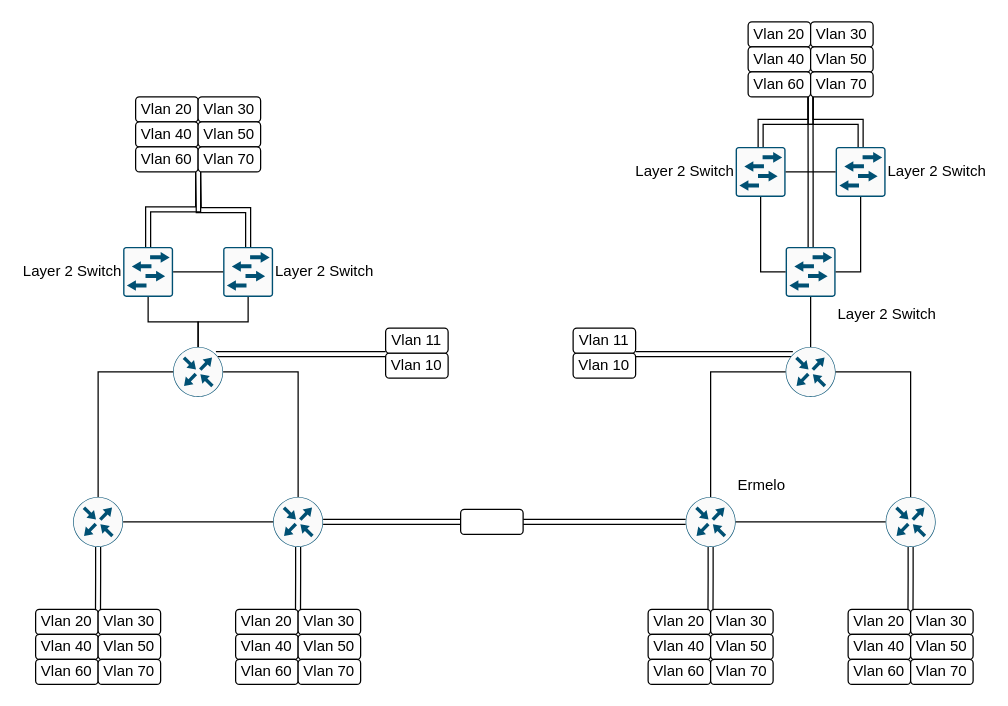
The diagram is 1008 pixels wide and 706 high, and some of its shapes have lost their labels. The centre of each missing label's shape, as x and y in pixels:
"Deventer" belongs at point 810,371.
"Epe" belongs at point 910,521.
"Harderwijk" belongs at point 197,371.
"Nunspeet" belongs at point 97,521.
"Putten" belongs at point 297,521.
"Vlan 8" belongs at point 491,521.
